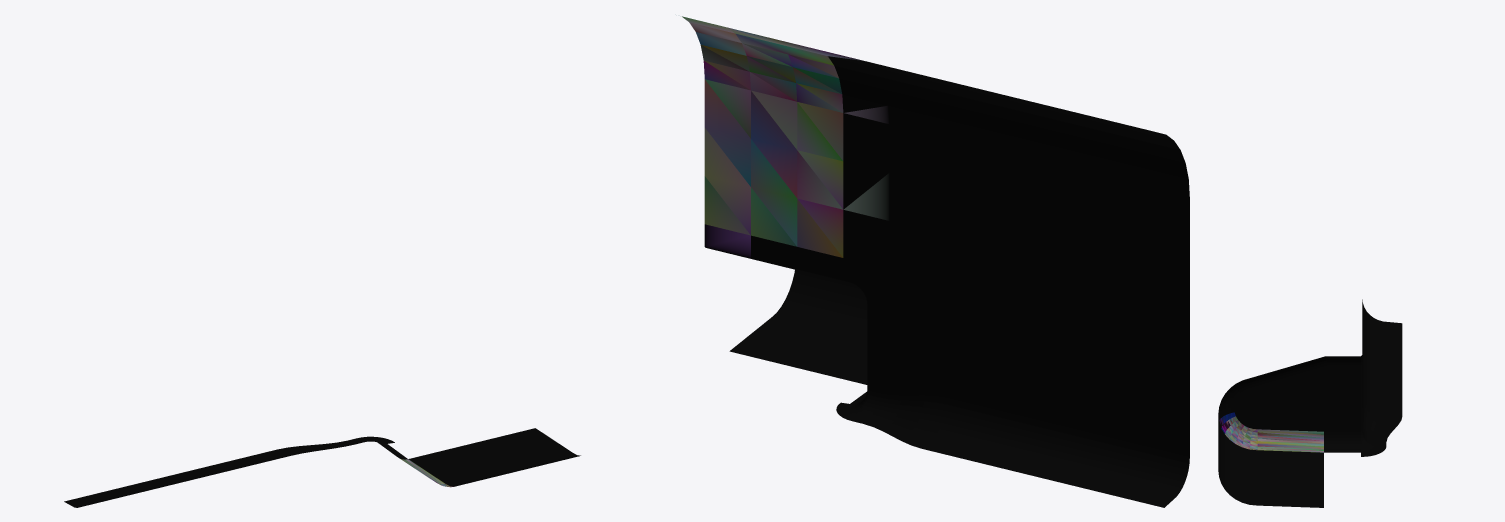
The model's file is Goal_STD_Collision_Half_Goal_STD_Collision.gltf.
3 renders of one model, left to right at view 1: azimuth 30°, elevation 25°; view 2: azimuth 150°, elevation 25°; view 3: azimuth 270°, elevation 25°, orthographic. The views are drawn at different scales.
Visible parts, largest first — view 1: Goal_STD_Collision_Half_Goal_STD_Collision; view 2: Goal_STD_Collision_Half_Goal_STD_Collision; view 3: Goal_STD_Collision_Half_Goal_STD_Collision.
Boxes of the visible parts, left/top/right/bottom form: Goal_STD_Collision_Half_Goal_STD_Collision: left=64, top=428, right=580, bottom=507; Goal_STD_Collision_Half_Goal_STD_Collision: left=682, top=16, right=1189, bottom=507; Goal_STD_Collision_Half_Goal_STD_Collision: left=1218, top=299, right=1402, bottom=507.
Bounding box in the file's own units: 26.88 × 20.84 × 16.64.
